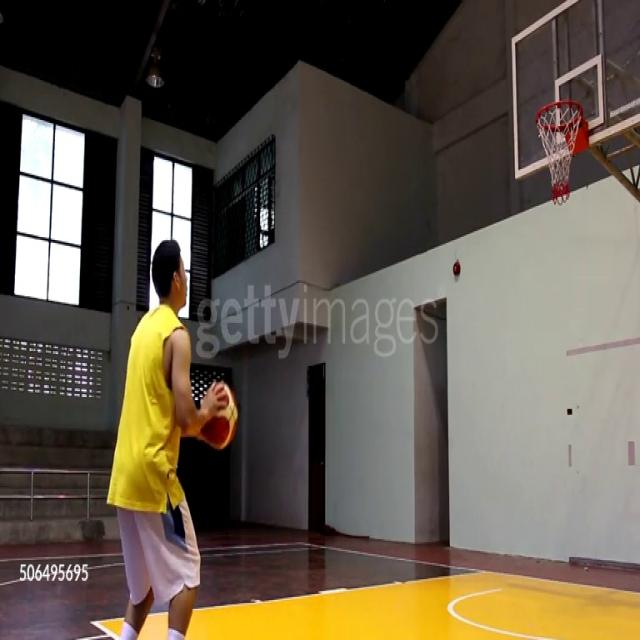ball: (198, 381, 238, 452)
